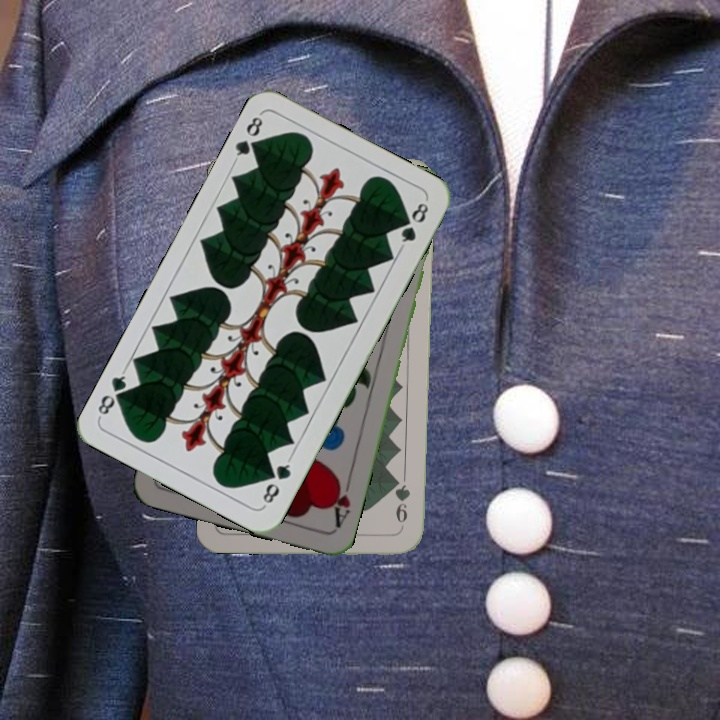G8: (229, 110, 266, 165), (258, 454, 294, 509)
G9: (390, 473, 412, 525)
HA: (326, 473, 354, 531)
